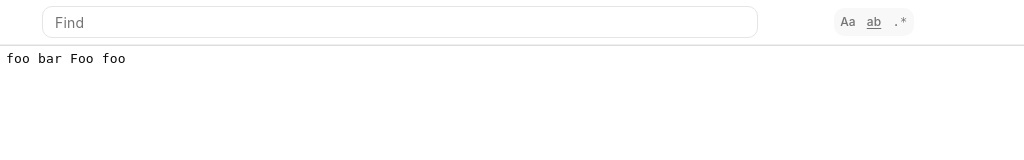
Test: the editor's find bar › is drawn with the app's controls and counts what it finds
In the field labelled "Find": (400, 22) 42,6 -> 758,38, type "foo"
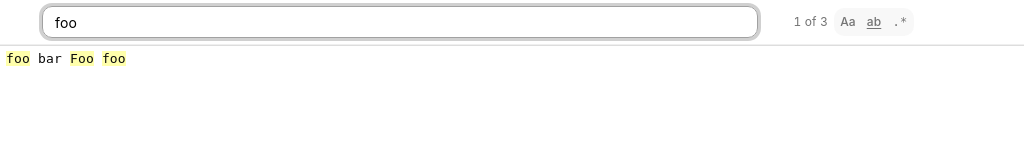
Expected: the 1st text box labelled "foo" is shown, 6,51 -> 30,66
Now the text "1 of 3" is shown, box 793,14 -> 828,29
Click the button with aria-label "Match case": (848, 22) 836,10 -> 860,34
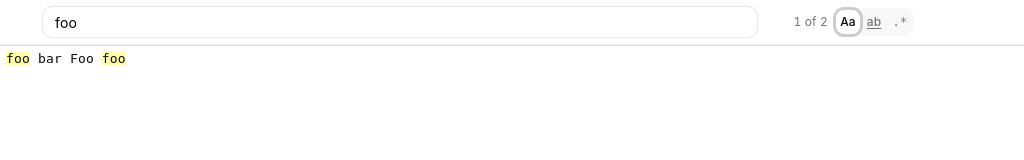
Now the text "1 of 2" is shown, box 793,14 -> 828,29
